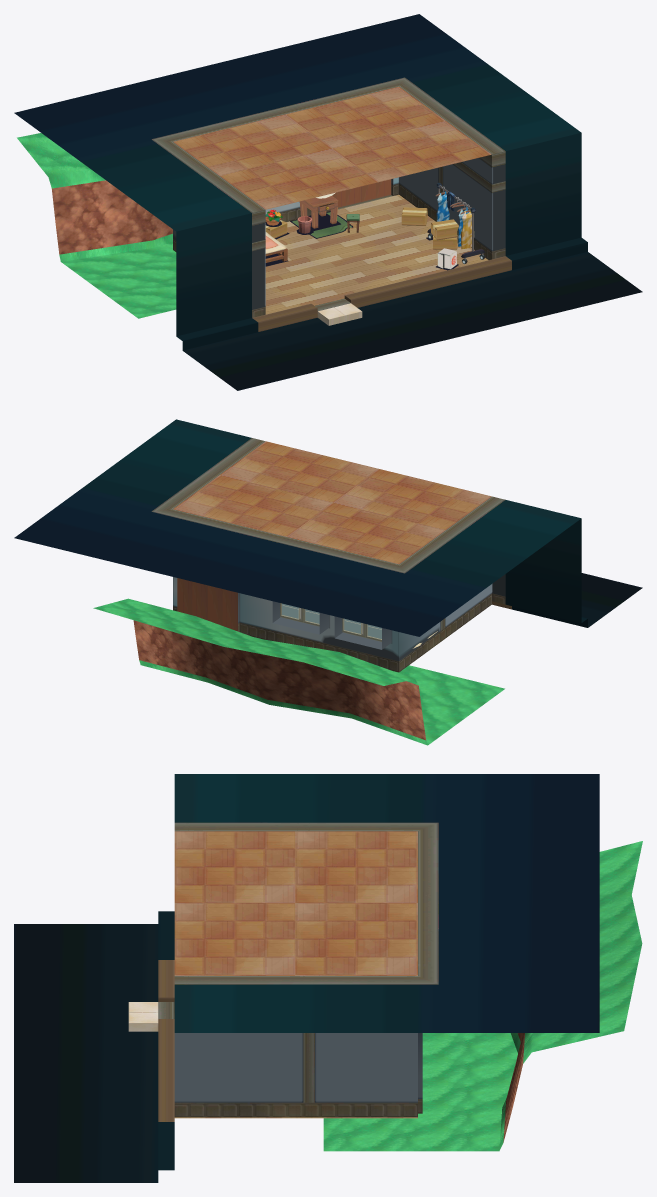
File: Model - Mothers Bedroom.dae
3 views of the same model, one above another, from view 1: azimuth 30°, elevation 25°; view 2: azimuth 150°, elevation 25°; view 3: azimuth 270°, elevation 25° (orthographic). The views are drawn at different scales.
Parts seen in each view (by area): view 1: all_world_rmbg_OptMesh_6_0_node, f0102r0101_rp04_OptMesh_10_0_node, f0102r0101_obj01_OptMesh_9_0_node, f0102r0101_rp01_OptMesh_14_0_node, m_outside_3_0_node, f0102r0101_rp03_OptMesh_8_0_node, m_outside_1_0_node, f0102r0101_02_OptMesh_17_0_node, m_outside_2_0_node, f0102r0101_rp02_OptMesh_7_0_node, all_world_rmsdw_OptMesh_5_0_node, f0102r0101_obj03_OptMesh_13_0_node; view 2: all_world_rmbg_OptMesh_6_0_node, f0102r0101_rp04_OptMesh_10_0_node, m_outside_1_0_node, f0102r0101_obj01_OptMesh_9_0_node, m_outside_3_0_node, f0102r0101_rp03_OptMesh_8_0_node, m_outside_2_0_node, f0102r0101_a02_OptMesh_12_0_node; view 3: all_world_rmbg_OptMesh_6_0_node, f0102r0101_rp04_OptMesh_10_0_node, m_outside_3_0_node, f0102r0101_rp03_OptMesh_8_0_node, f0102r0101_obj01_OptMesh_9_0_node, f0102r0101_rp02_OptMesh_7_0_node, m_outside_1_0_node.
Part boxes in pixels (bbox=[...]): all_world_rmbg_OptMesh_6_0_node: bbox=[14, 14, 642, 390]; f0102r0101_rp04_OptMesh_10_0_node: bbox=[173, 86, 491, 209]; f0102r0101_obj01_OptMesh_9_0_node: bbox=[152, 77, 511, 331]; f0102r0101_rp01_OptMesh_14_0_node: bbox=[265, 194, 488, 314]; m_outside_3_0_node: bbox=[17, 133, 176, 318]; f0102r0101_rp03_OptMesh_8_0_node: bbox=[173, 158, 505, 309]; m_outside_1_0_node: bbox=[52, 180, 172, 254]; f0102r0101_02_OptMesh_17_0_node: bbox=[265, 191, 474, 253]; m_outside_2_0_node: bbox=[48, 170, 172, 261]; f0102r0101_rp02_OptMesh_7_0_node: bbox=[317, 303, 362, 325]; all_world_rmsdw_OptMesh_5_0_node: bbox=[265, 211, 458, 270]; f0102r0101_obj03_OptMesh_13_0_node: bbox=[265, 182, 485, 263]; all_world_rmbg_OptMesh_6_0_node: bbox=[14, 419, 642, 636]; f0102r0101_rp04_OptMesh_10_0_node: bbox=[173, 441, 491, 564]; m_outside_1_0_node: bbox=[133, 620, 426, 740]; f0102r0101_obj01_OptMesh_9_0_node: bbox=[151, 438, 511, 672]; m_outside_3_0_node: bbox=[93, 598, 504, 745]; f0102r0101_rp03_OptMesh_8_0_node: bbox=[173, 574, 505, 661]; m_outside_2_0_node: bbox=[139, 660, 427, 745]; f0102r0101_a02_OptMesh_12_0_node: bbox=[282, 603, 381, 638]; all_world_rmbg_OptMesh_6_0_node: bbox=[14, 774, 599, 1182]; f0102r0101_rp04_OptMesh_10_0_node: bbox=[174, 831, 417, 975]; m_outside_3_0_node: bbox=[323, 841, 642, 1151]; f0102r0101_rp03_OptMesh_8_0_node: bbox=[174, 1033, 422, 1102]; f0102r0101_obj01_OptMesh_9_0_node: bbox=[158, 822, 438, 1121]; f0102r0101_rp02_OptMesh_7_0_node: bbox=[128, 1002, 158, 1031]; m_outside_1_0_node: bbox=[503, 1033, 524, 1142].
Bounding box in the file's own units: 1335 × 420 × 1370.
